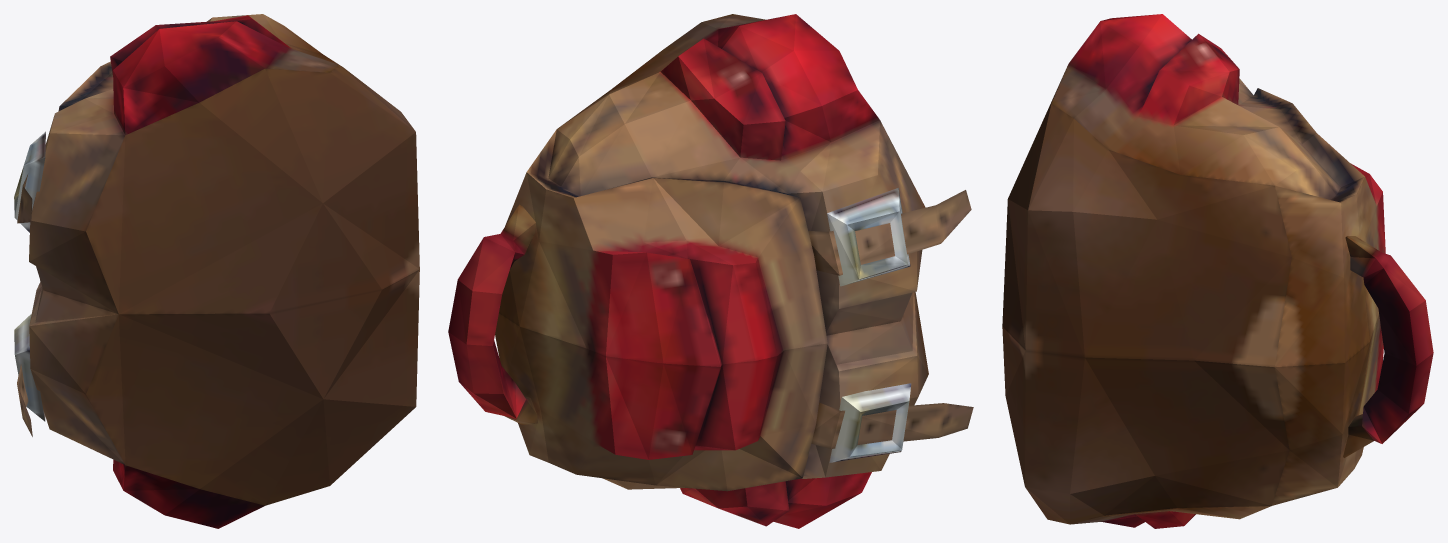
Rendered from TGPACK.bgf.obj.
3 views of the same model, side by side, from view 1: azimuth 30°, elevation 25°; view 2: azimuth 150°, elevation 25°; view 3: azimuth 270°, elevation 25° (orthographic).
Parts seen in each view (by area): view 1: DUMMY; view 2: DUMMY; view 3: DUMMY.
Boxes of the visible parts, x1,y1,x2,y2 form: DUMMY: (14, 14, 419, 528); DUMMY: (448, 14, 973, 528); DUMMY: (1002, 14, 1433, 528).
Size of the model in its own units: 0.565 by 0.703 by 0.554.
Materials: 1 (1 with a texture image).
